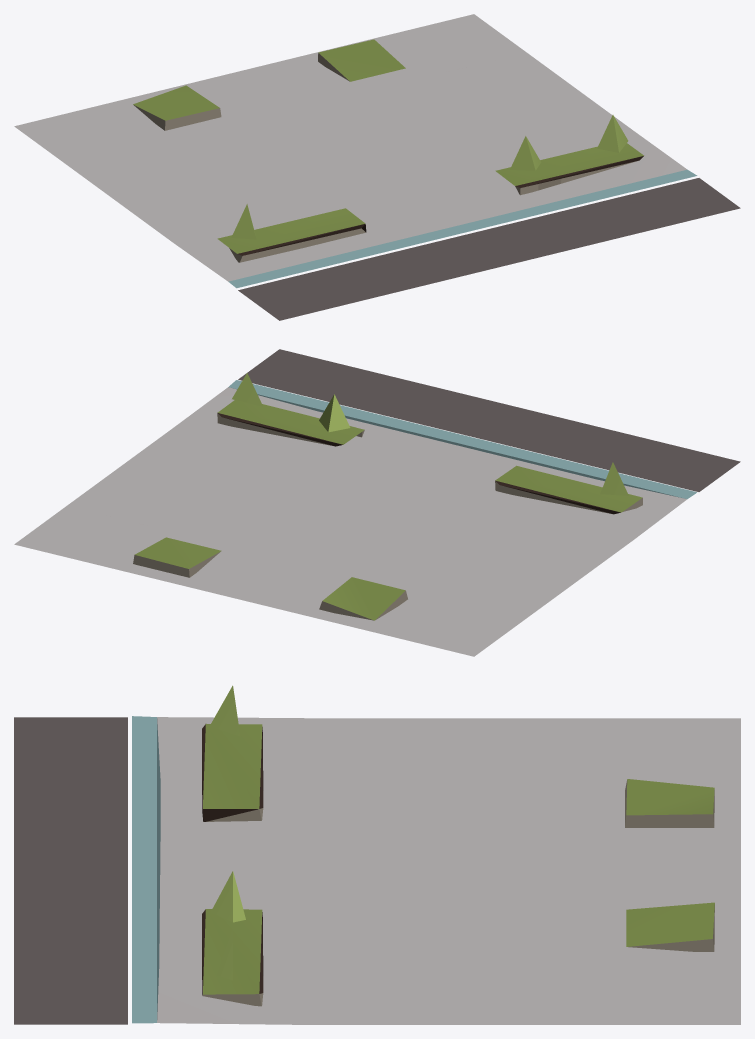
The model's file is QmTn9GGT8uFxt9D59z2PcPJqCx4ovrQQTDNWeVKkx7npfH_lod2.fbx.
3 renders of one model, top to bottom at view 1: azimuth 30°, elevation 25°; view 2: azimuth 150°, elevation 25°; view 3: azimuth 270°, elevation 25°, orthographic. The views are drawn at different scales.
Visible parts, largest first — view 1: Entity_513; view 2: Entity_513; view 3: Entity_513.
Part boxes in pixels (bbox=[...]): Entity_513: bbox=[14, 14, 740, 320]; Entity_513: bbox=[14, 349, 740, 656]; Entity_513: bbox=[14, 685, 740, 1024].
Bounding box in the file's own units: 15921 × 1591 × 15907.
Materials: 1 (1 with a texture image).
